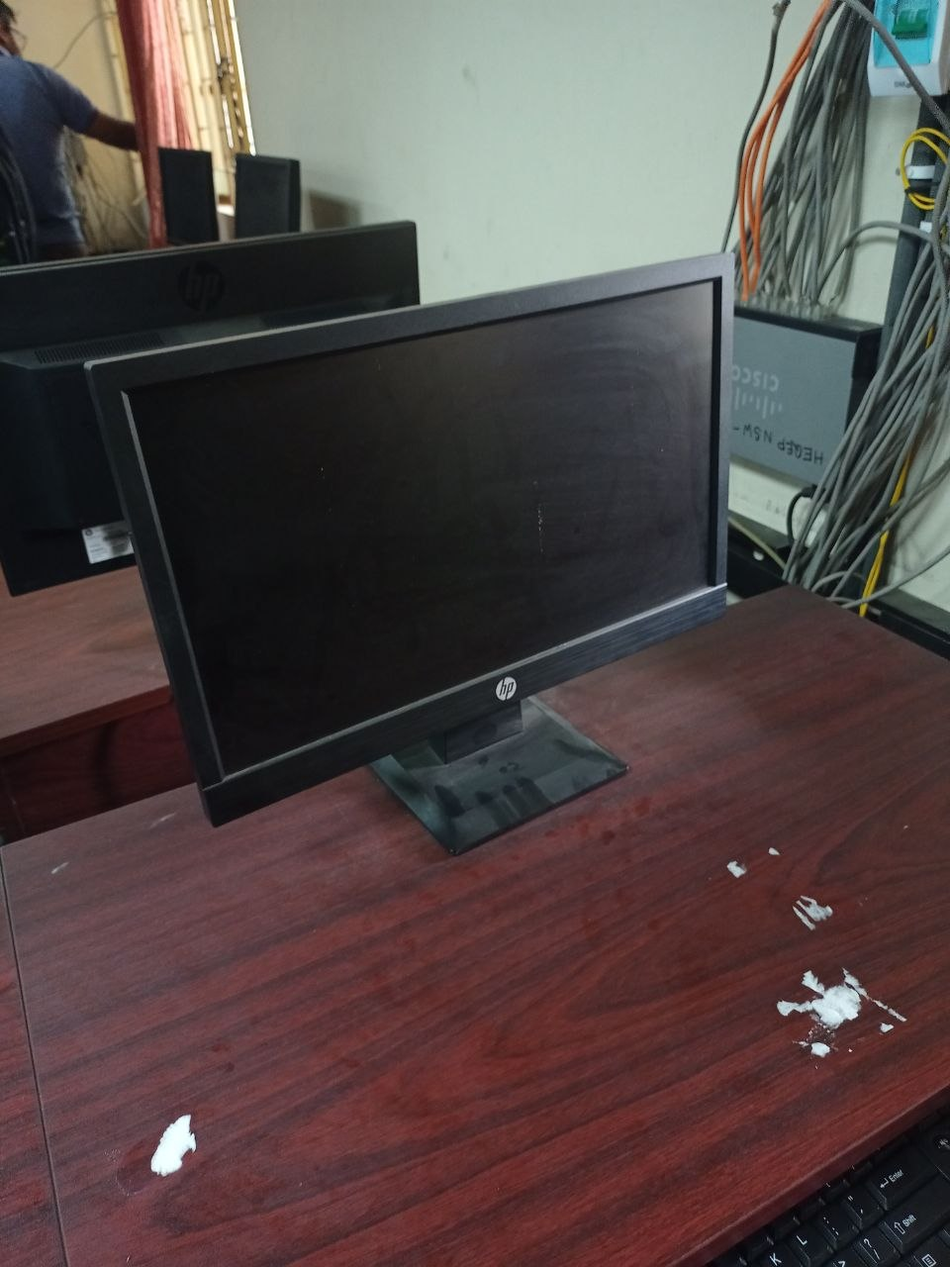computer monitor: (89, 256, 731, 850), (0, 222, 418, 593), (158, 148, 218, 244), (235, 153, 300, 237)
